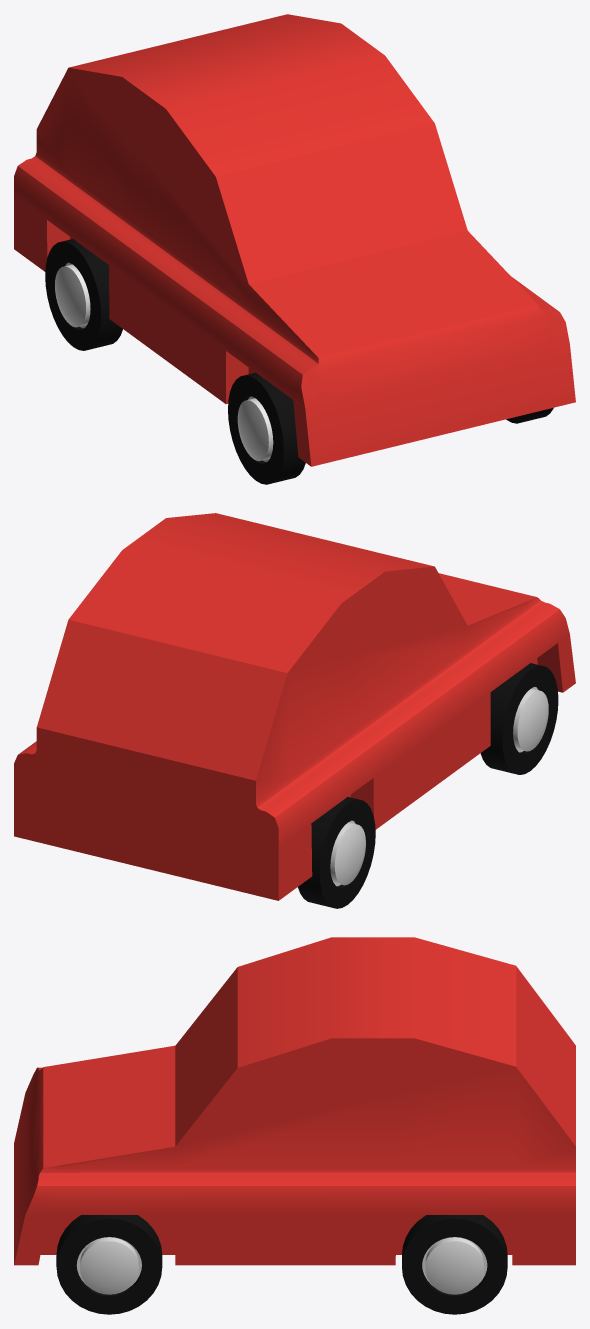
Rendered from car.fbx.
3 renders of one model, top to bottom at view 1: azimuth 30°, elevation 25°; view 2: azimuth 150°, elevation 25°; view 3: azimuth 270°, elevation 25°, orthographic. The views are drawn at different scales.
Visible parts, largest first — view 1: Car, Front_Right_Wheel, Back_Right_Wheel; view 2: Car, Front_Right_Wheel, Back_Right_Wheel; view 3: Car, Front_Left_Wheel, Back_Left_Wheel.
Part boxes in pixels (box(x1,y1,x2,y2)): Car: box(14, 14, 575, 466); Front_Right_Wheel: box(228, 372, 305, 484); Back_Right_Wheel: box(45, 239, 122, 350); Car: box(14, 513, 575, 900); Front_Right_Wheel: box(480, 663, 558, 774); Back_Right_Wheel: box(298, 797, 375, 908); Car: box(14, 937, 575, 1265); Front_Left_Wheel: box(56, 1215, 162, 1314); Back_Left_Wheel: box(402, 1215, 507, 1314).
Size of the model in its own units: 2.62 by 2.43 by 4.7.
